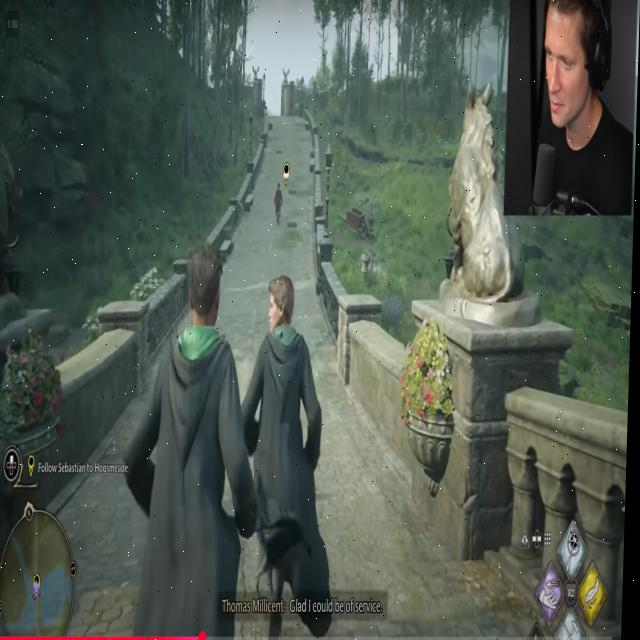compass: (36, 573, 45, 600), (283, 162, 292, 186), (31, 454, 37, 478)
